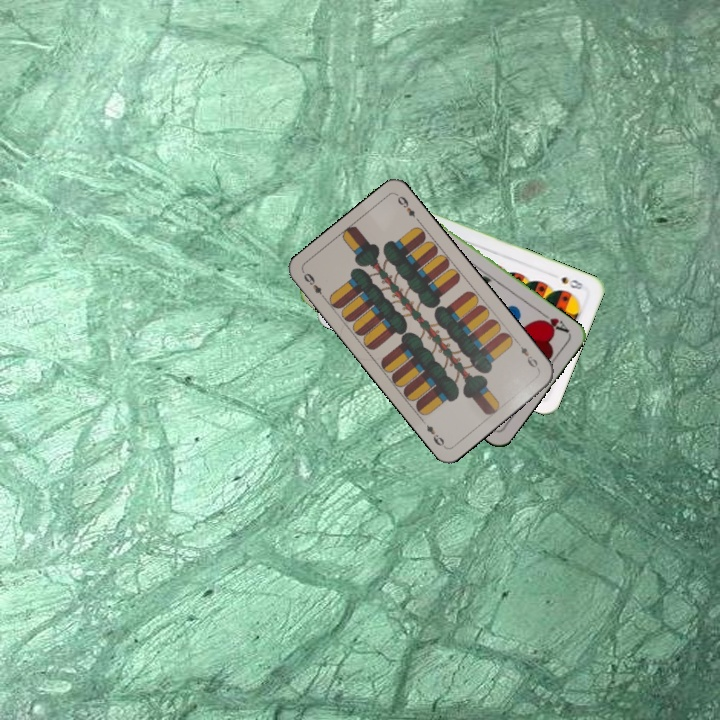E9: (299, 269, 329, 303), (516, 342, 542, 373)
HA: (535, 307, 572, 335)
S8: (557, 273, 589, 292)
